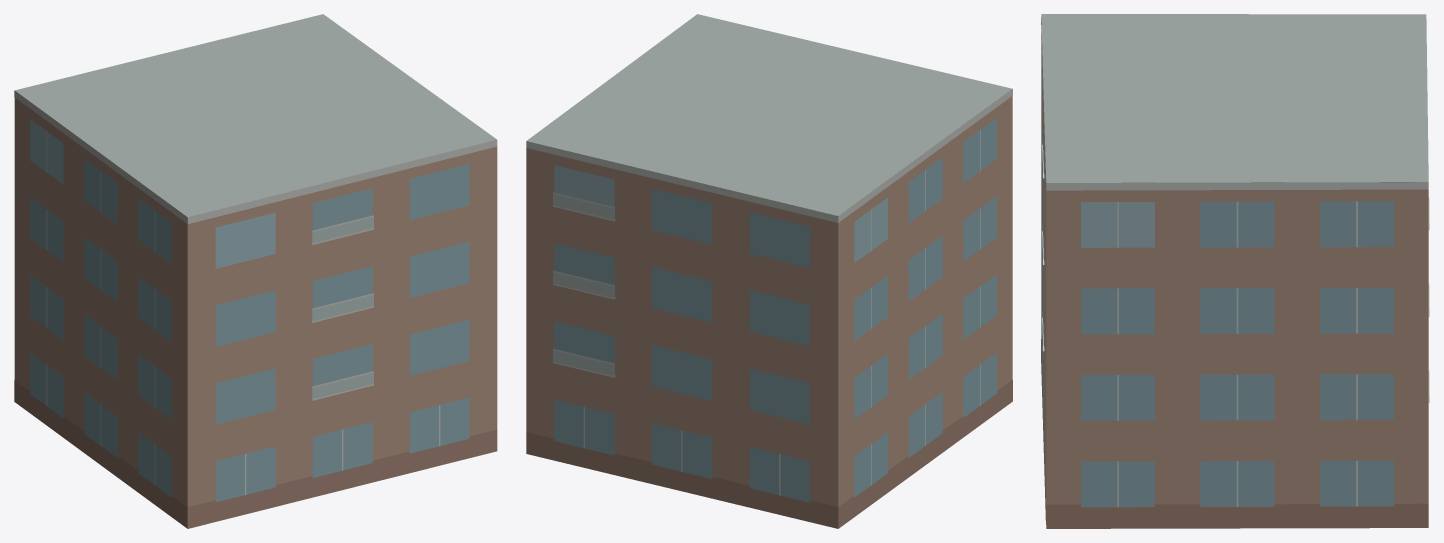
Rendered from survey-upis-32567659.glb.
3 views of the same model, side by side, from view 1: azimuth 30°, elevation 25°; view 2: azimuth 150°, elevation 25°; view 3: azimuth 270°, elevation 25° (orthographic). The views are drawn at different scales.
Parts seen in each view (by area): view 1: survey-upis-32567659.tmp; view 2: survey-upis-32567659.tmp; view 3: survey-upis-32567659.tmp.
Boxes of the visible parts, x1,y1,x2,y2 form: survey-upis-32567659.tmp: [14, 14, 497, 528]; survey-upis-32567659.tmp: [526, 14, 1012, 528]; survey-upis-32567659.tmp: [1041, 14, 1429, 528].
Bounding box in the file's own units: 11.64 × 11.1 × 11.31.
